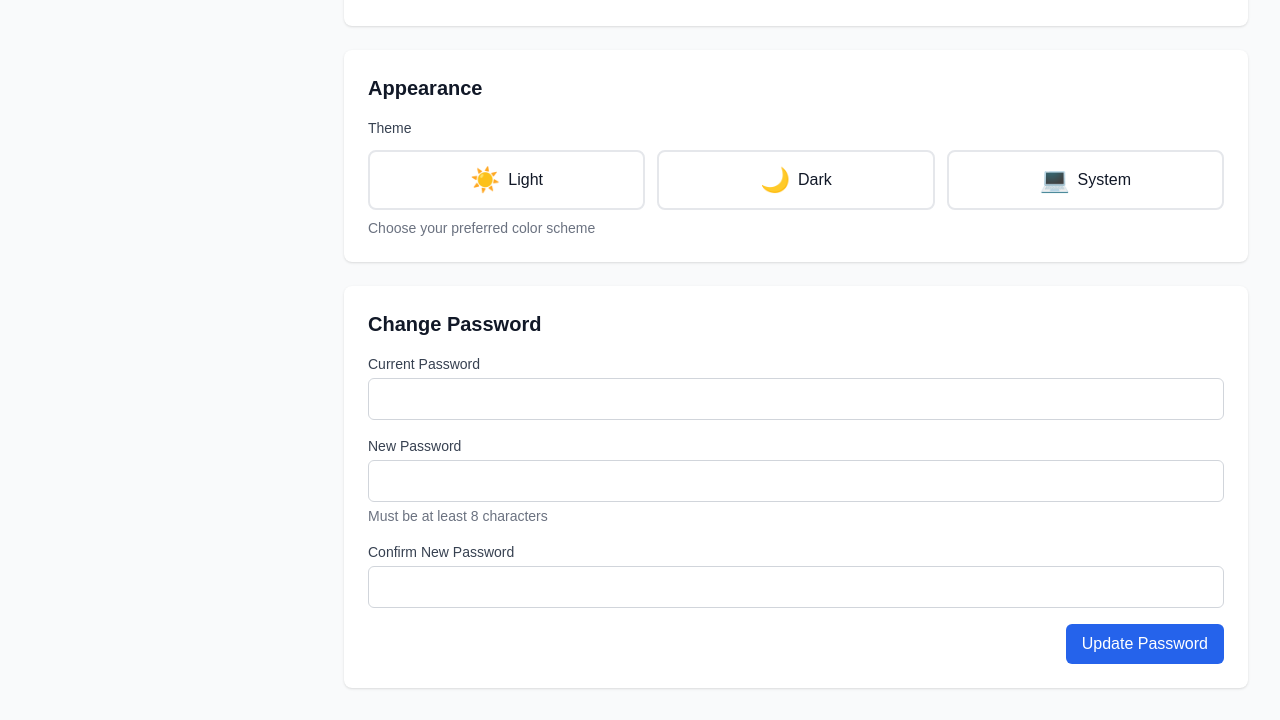
Scenario: Settings Page › disables submit button while loading
This screenshot has width=1280, height=720.
(page scrolled)
Type "oldpassword123" into the password field labelled "Current Password" at (796, 399), box [368,378,1224,420]
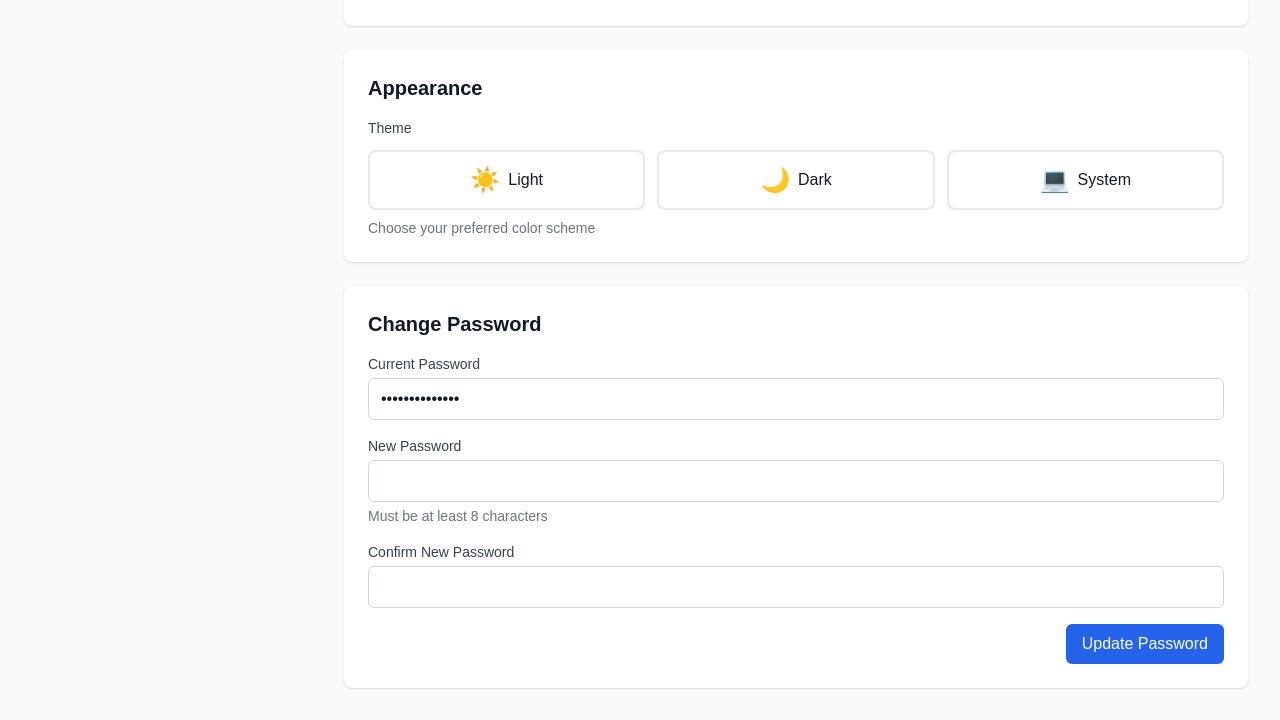
Type "newpassword123" into the password field labelled "New Password" at (796, 481), box [368,460,1224,502]
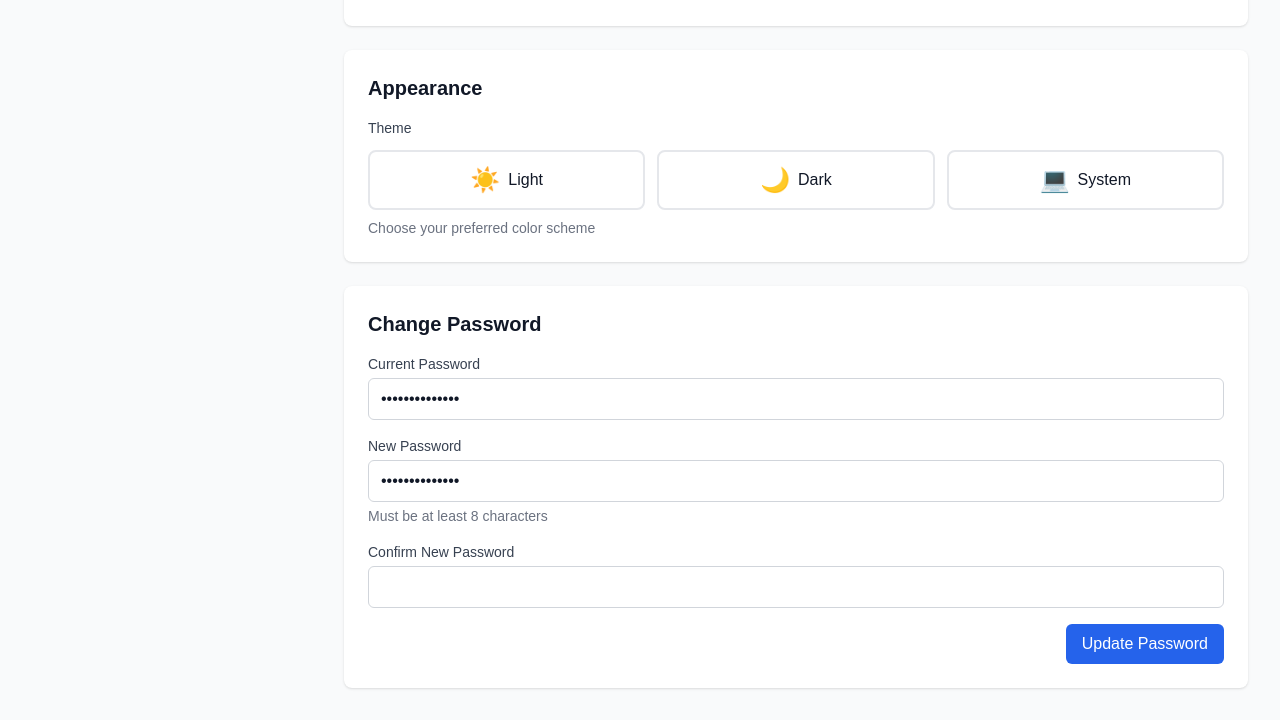
Type "newpassword123" into the password field labelled "Confirm New Password" at (796, 587), box [368,566,1224,608]
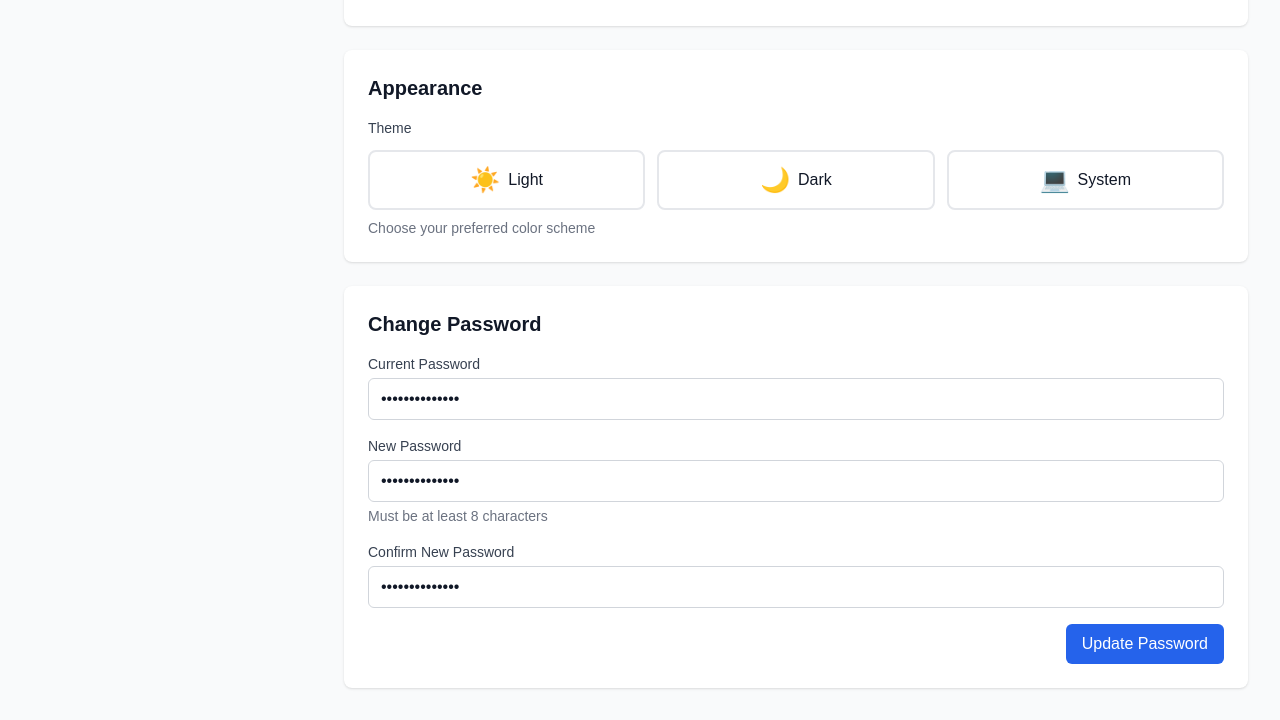
Click the button "Update Password" at (1145, 644), box [1066,624,1224,664]
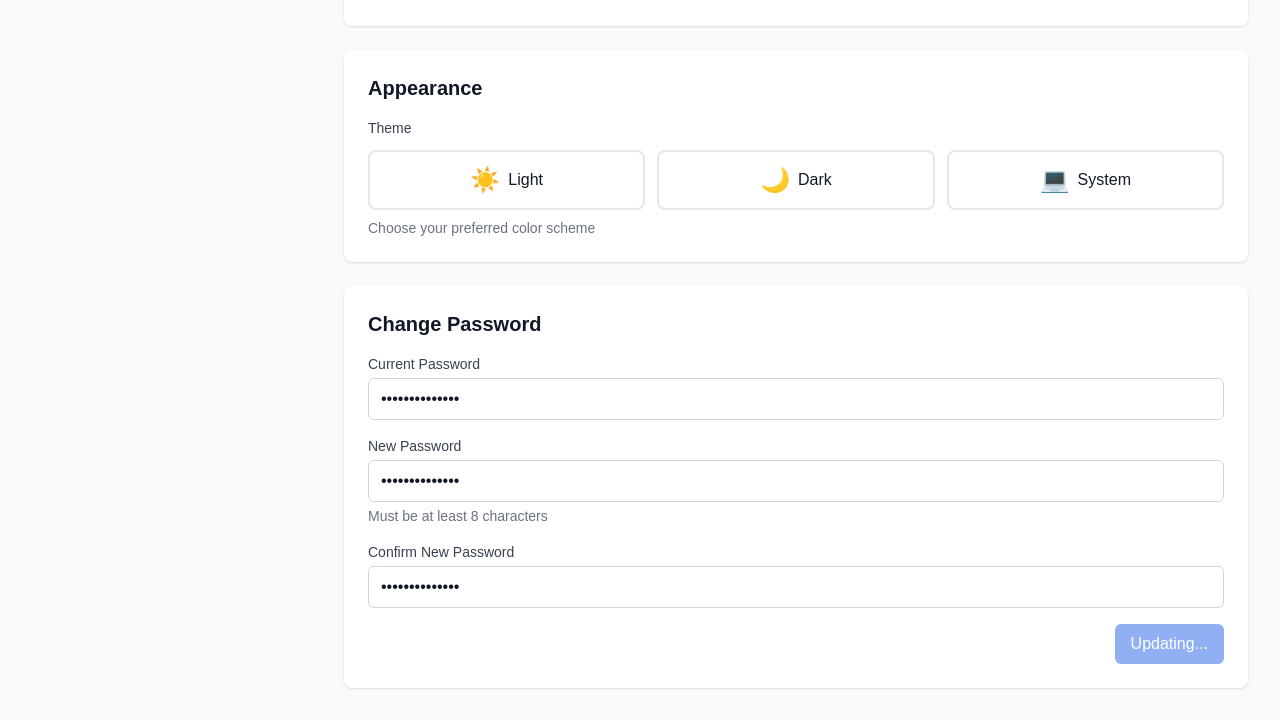
Result: the button "Updating..." is disabled at [1115,624,1224,664]
